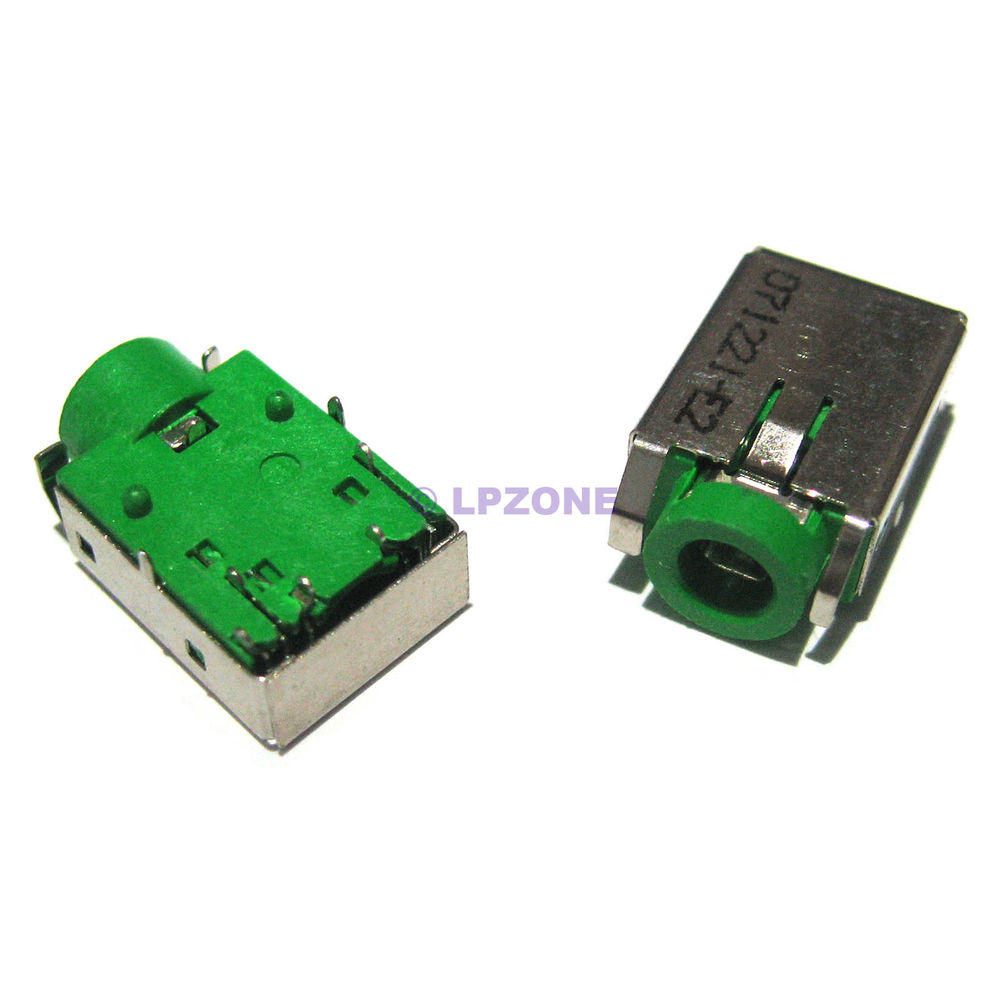aud: (29, 329, 493, 757), (605, 231, 931, 671)
